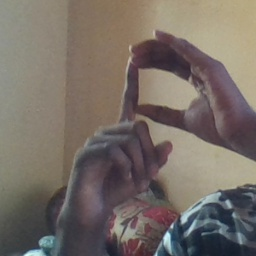P: (78, 25, 226, 193)
